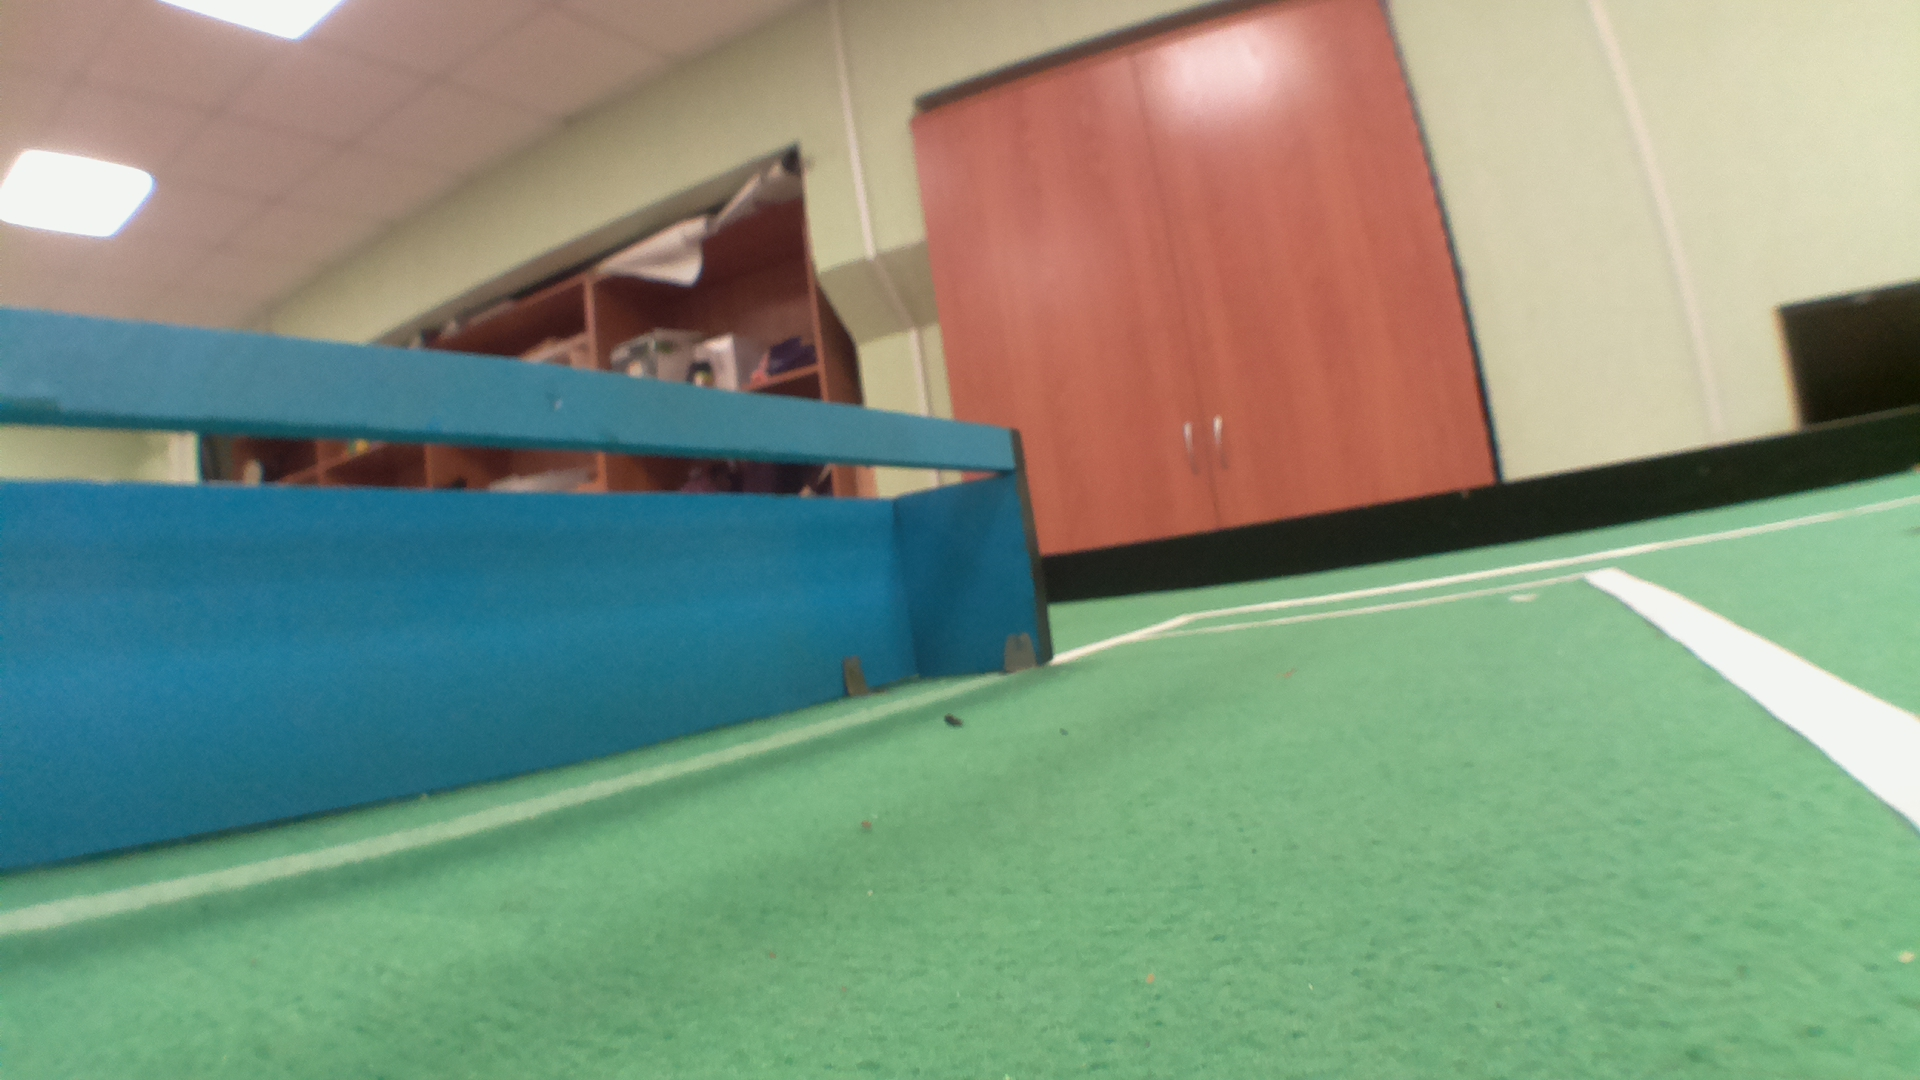BlueGoal: (1, 327, 1034, 789)
